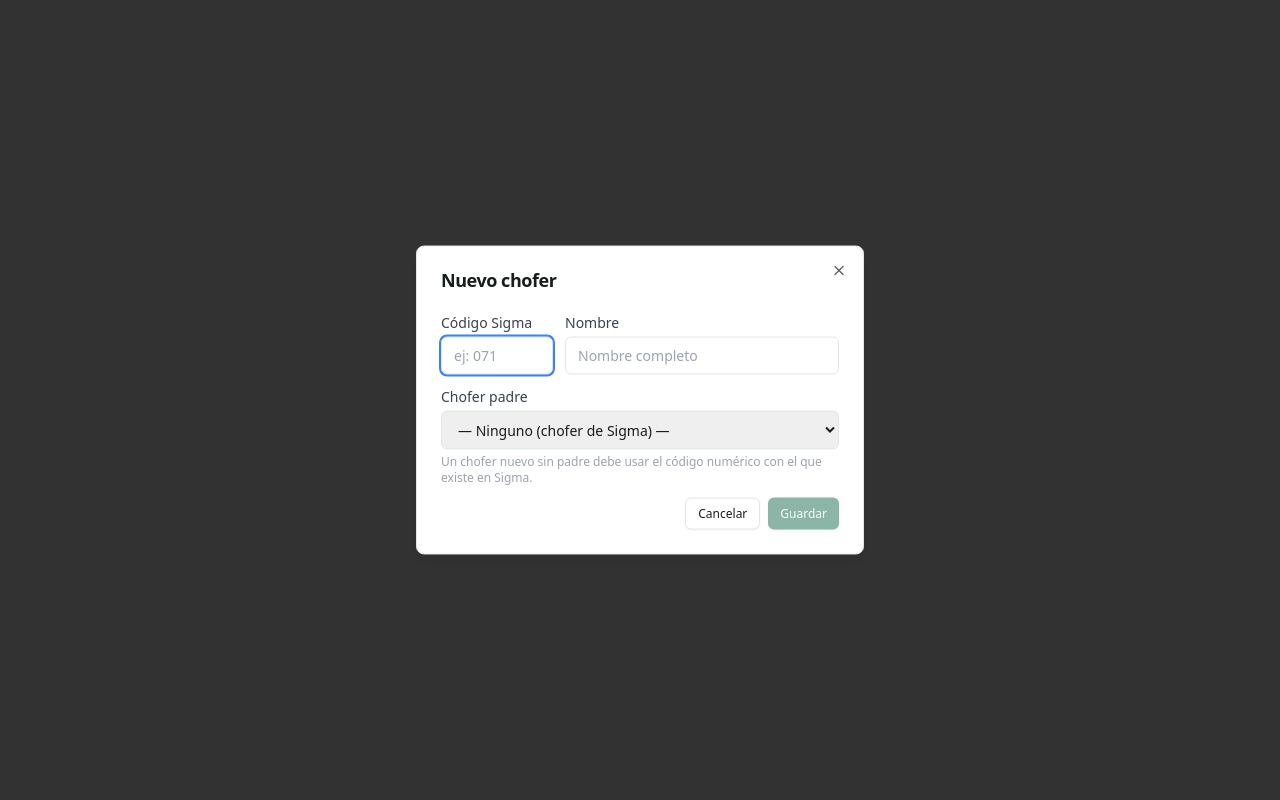
Scenario: ChoferModal — alta › rechaza un código Sigma no numérico sin llamar a onGuardar
Type "CH9" into the field with placeholder "ej: 071".
click(497, 356); type("CH9")  # box top-left (441, 336), bottom-right (553, 374)
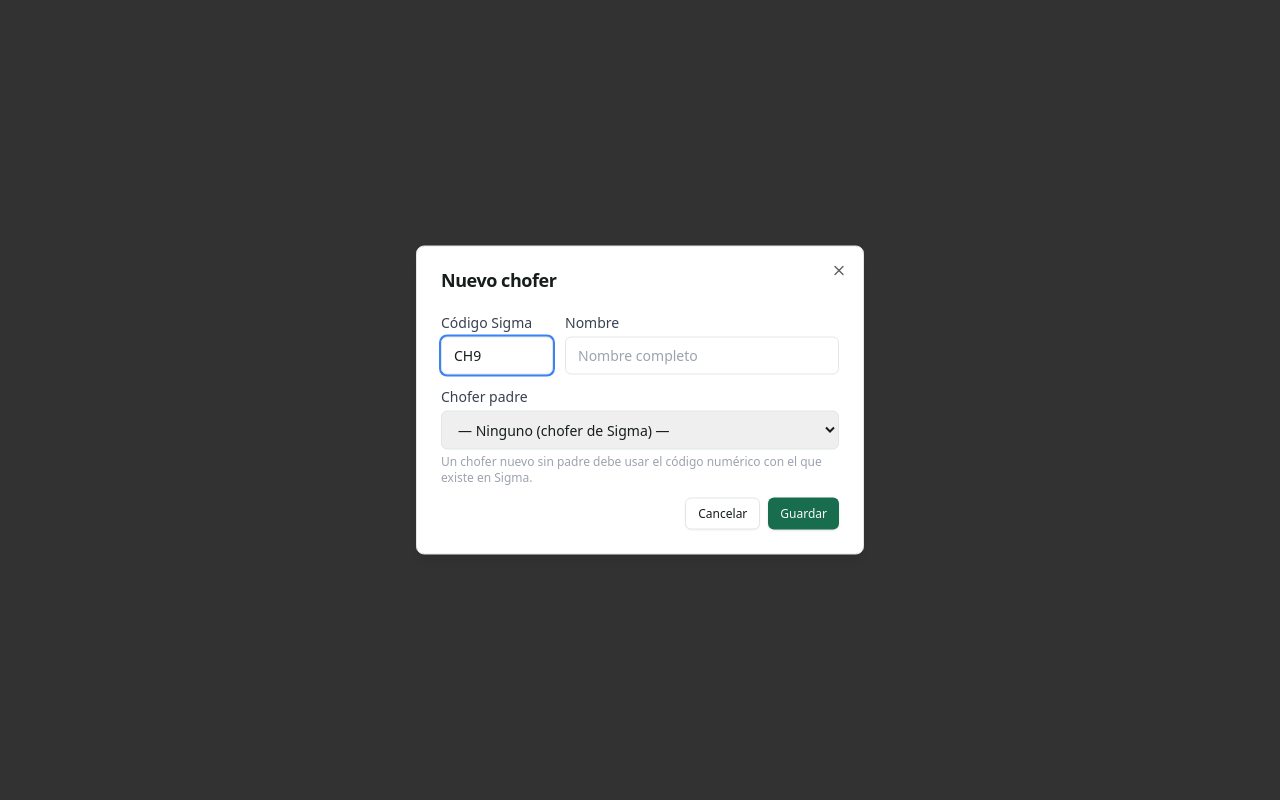
Click the button "Guardar".
click(804, 514)  # box top-left (768, 498), bottom-right (839, 530)
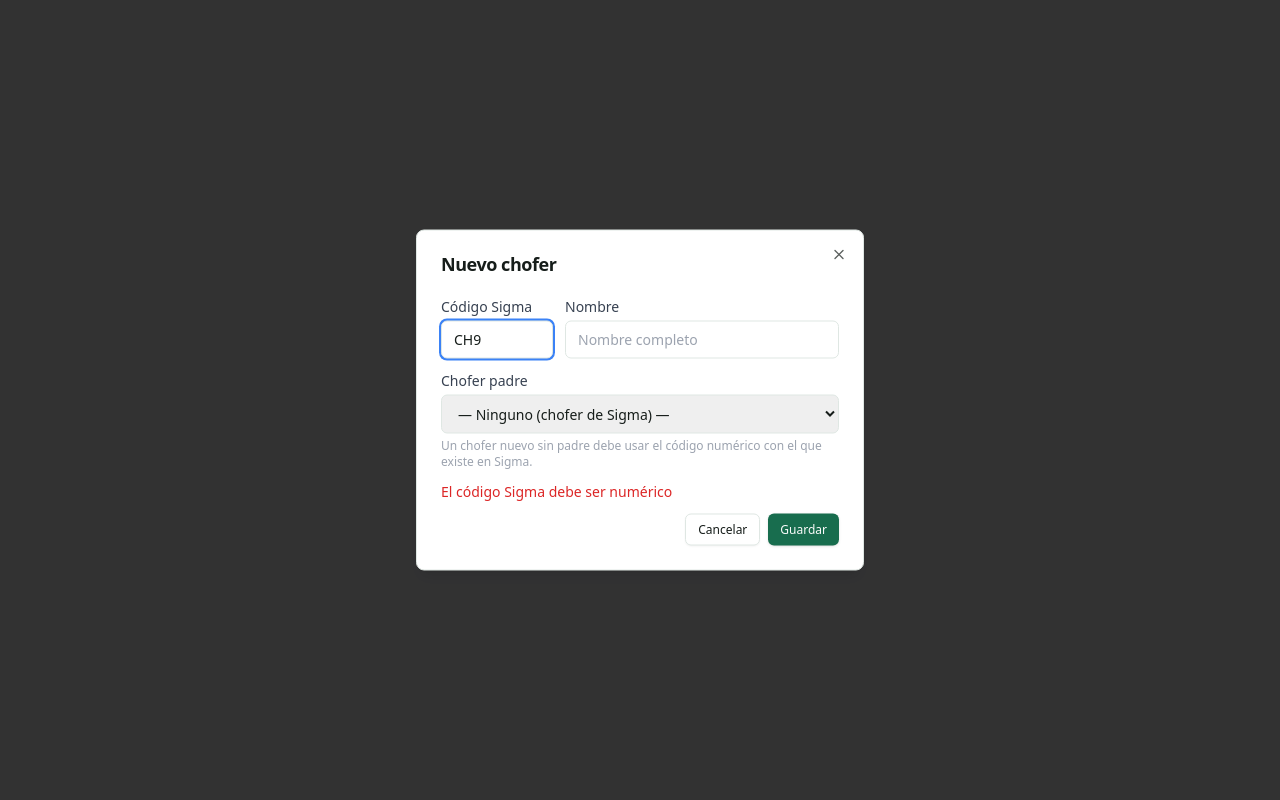
Result: the text "El código Sigma debe ser numérico" is shown at top-left (441, 482), bottom-right (672, 500)
